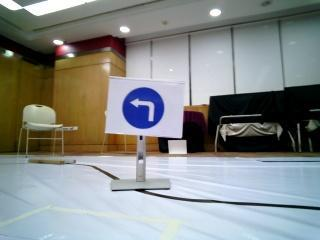left: (115, 82, 182, 137)
